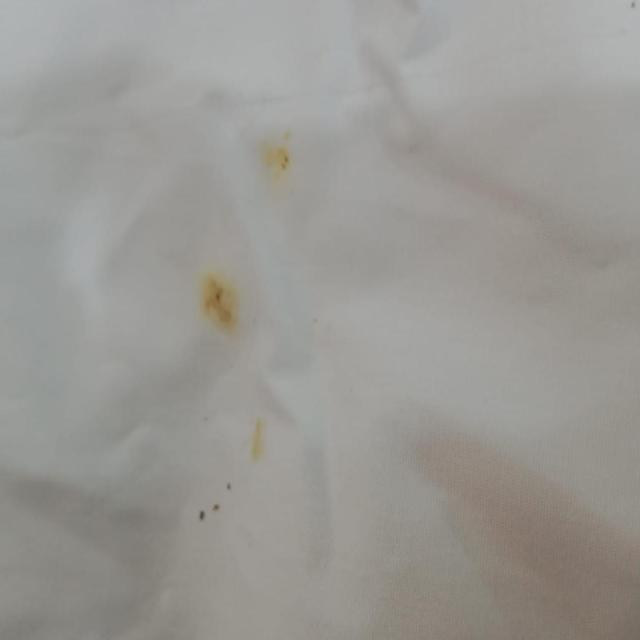stain: (195, 409, 272, 525), (246, 126, 305, 202), (194, 260, 244, 340)
